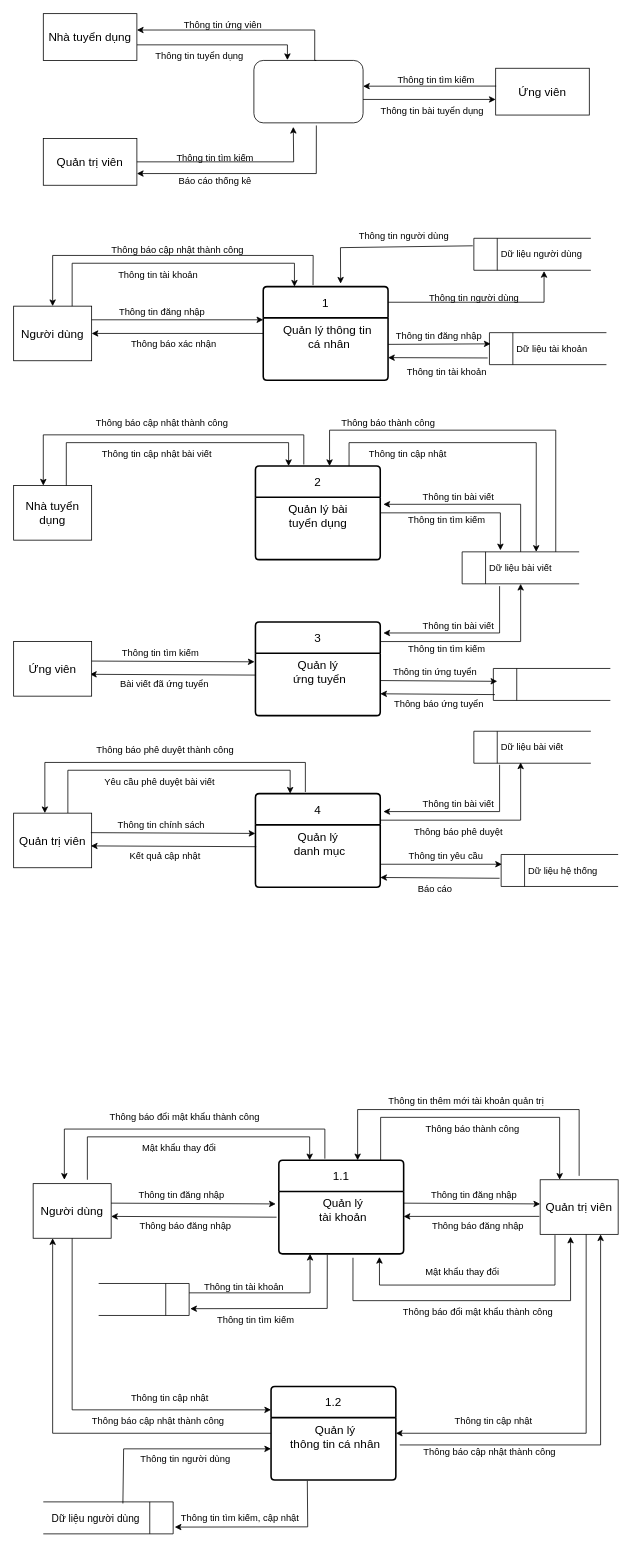
Image size: 632x1548. Some labels were removed from this diagram. Here are the shapes that lost their labels. From the top down, the box of each, then its label:
(253, 60, 363, 123): Molas
(493, 668, 610, 700): Dữ liệu ứng tuyển
(98, 1283, 189, 1315): Tài khoản
